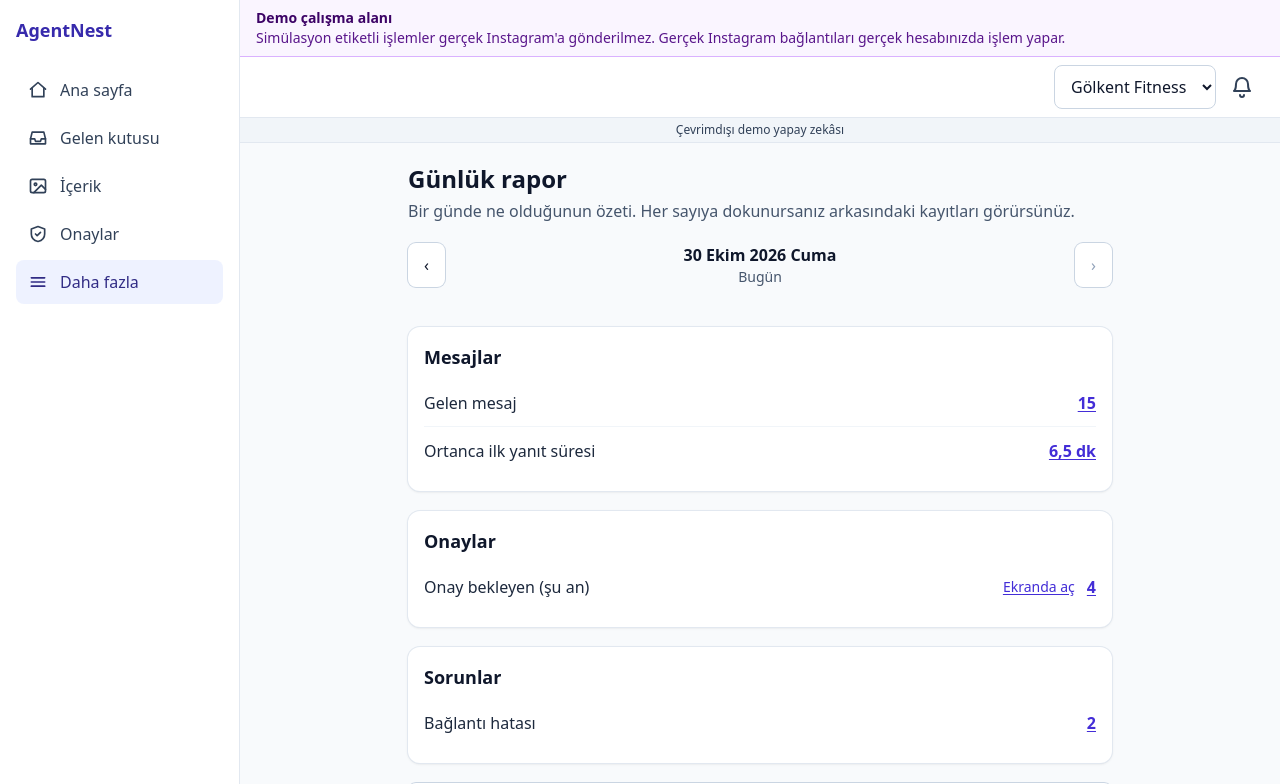
Test: daily report › steps back a day, never past today, and can return to today
The image size is (1280, 784).
Check: the heading "Mesajlar" is shown, box [424,345,502,369]
Check: the button named "Sonraki gün" is disabled, box [1075,243,1112,287]
Step 1. Click the button named "Önceki gün" → click(426, 265), box [408,243,445,287]
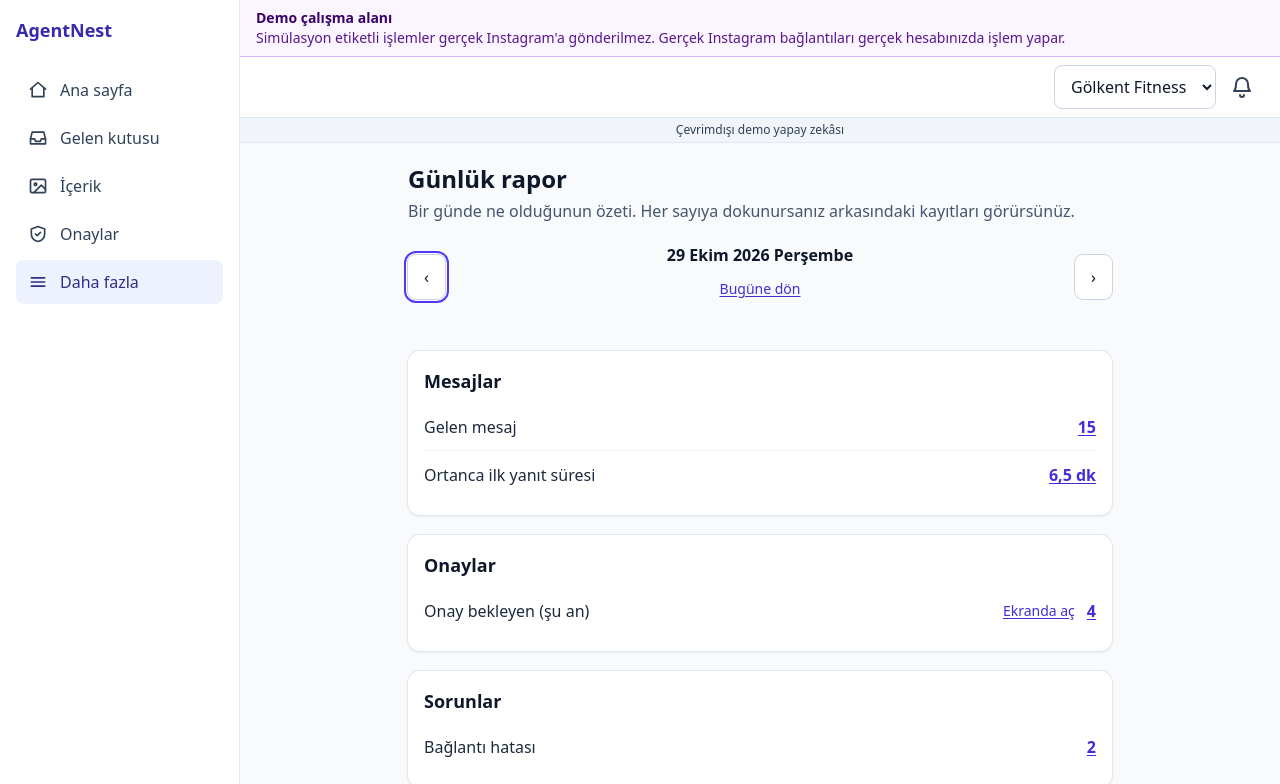
Check: the button named "Sonraki gün" is enabled, box [1075,255,1112,299]
Step 2. Click the button "Bugüne dön" → click(760, 289), box [720,267,800,311]
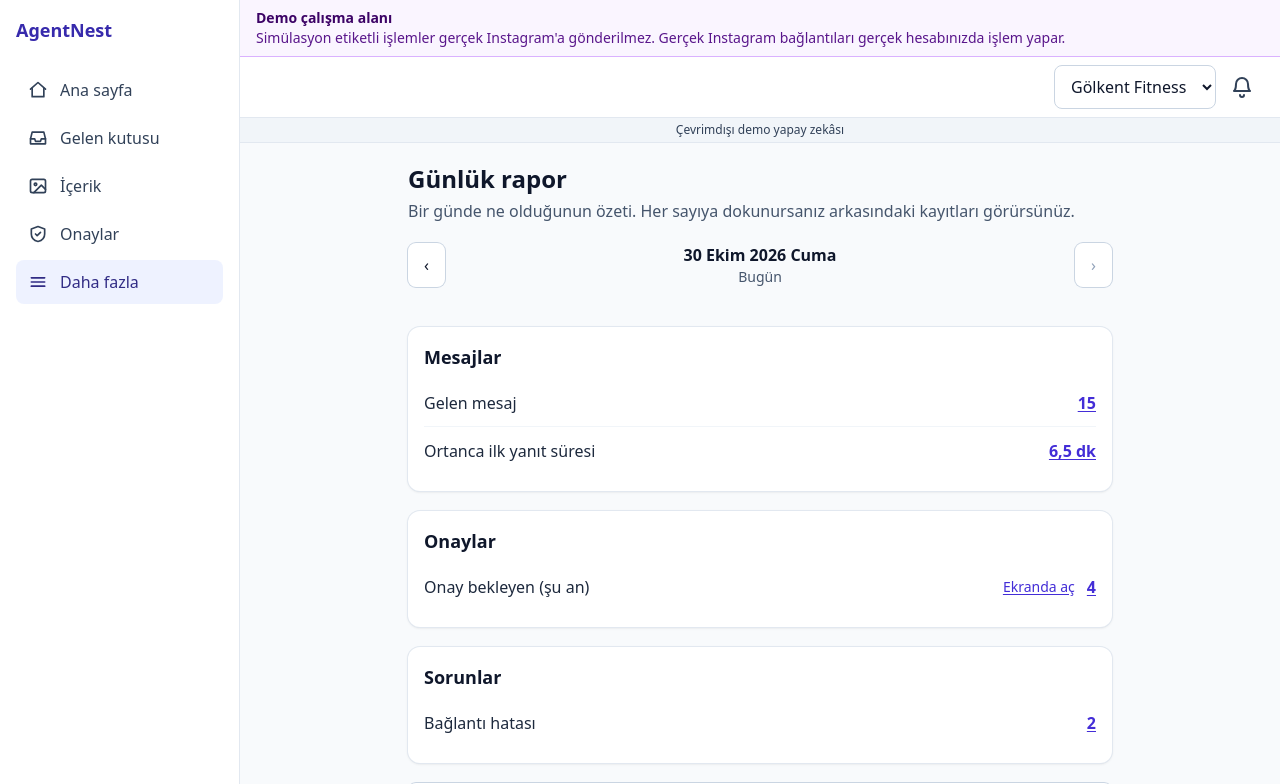
Check: the button named "Sonraki gün" is disabled, box [1075,243,1112,287]
